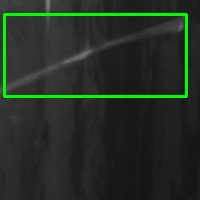scratches: (4, 14, 186, 96)
